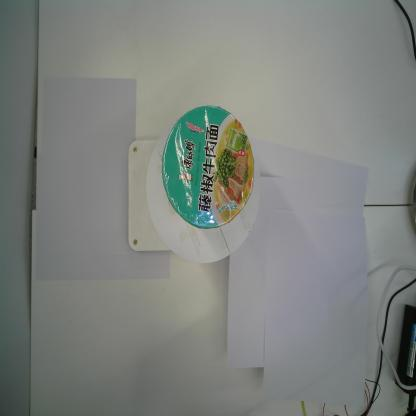Instant Noodles: (161, 104, 255, 231)
